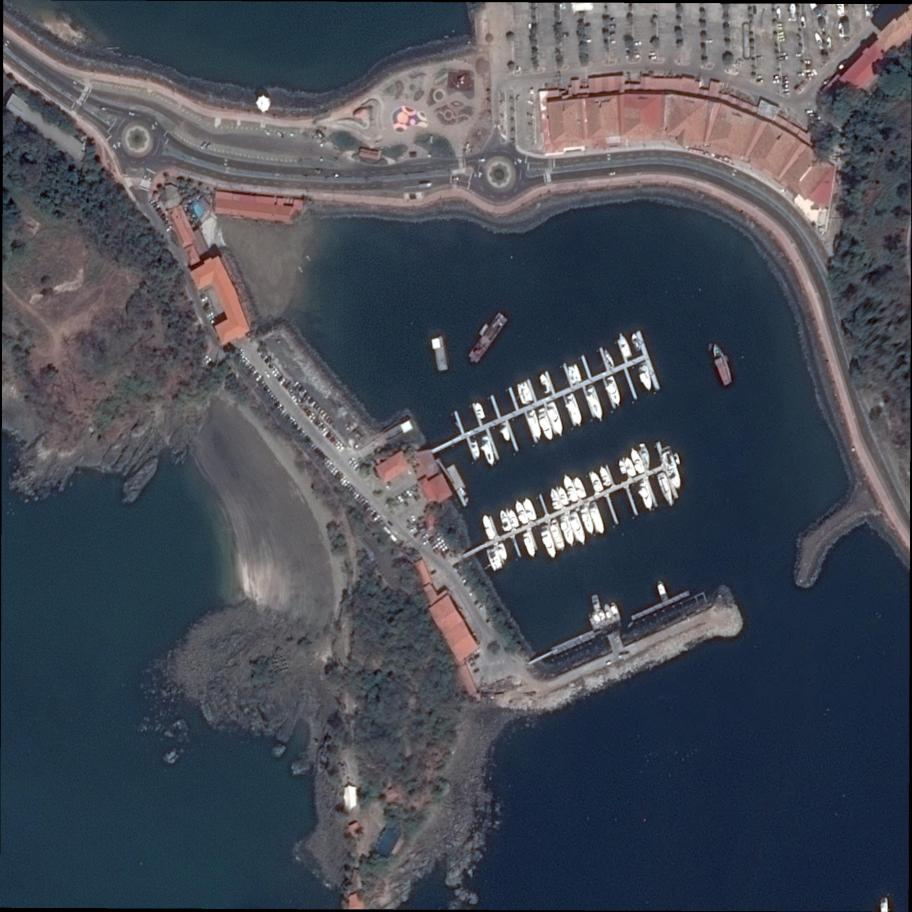ship: (463, 309, 511, 367), (706, 341, 737, 388), (659, 446, 686, 491), (583, 383, 608, 423), (544, 399, 569, 437), (654, 470, 677, 509), (557, 512, 580, 549), (568, 509, 590, 546), (539, 522, 560, 559), (603, 373, 625, 408), (587, 500, 608, 536), (564, 392, 585, 427), (535, 407, 556, 442), (548, 518, 569, 553), (431, 335, 450, 372), (637, 479, 656, 513), (635, 363, 656, 393), (478, 435, 497, 467), (525, 408, 544, 440), (615, 331, 635, 361), (561, 475, 580, 505), (515, 380, 536, 407), (521, 531, 540, 560), (579, 504, 596, 536), (637, 442, 655, 471), (629, 447, 647, 476), (512, 498, 530, 527), (521, 495, 539, 523), (564, 361, 583, 386), (536, 370, 553, 397), (480, 514, 497, 541), (469, 399, 488, 423), (587, 470, 606, 494), (547, 486, 564, 512), (486, 546, 504, 570), (597, 465, 614, 489), (572, 476, 589, 500), (654, 578, 670, 603), (468, 434, 483, 460), (602, 347, 617, 372), (622, 456, 638, 479), (498, 509, 513, 533), (498, 421, 514, 443), (506, 508, 521, 530), (496, 541, 510, 563), (556, 485, 569, 507), (596, 607, 609, 628), (609, 600, 622, 621), (603, 602, 615, 624), (630, 334, 642, 353), (591, 612, 603, 630), (590, 594, 601, 613), (813, 32, 825, 49), (616, 459, 628, 475), (588, 617, 598, 631), (837, 22, 844, 37), (655, 441, 663, 454), (799, 15, 806, 28), (775, 6, 781, 20), (675, 452, 681, 464), (826, 35, 831, 48)
small-vehicle: (420, 182, 432, 188), (264, 129, 272, 137), (373, 514, 381, 522), (165, 225, 173, 232), (333, 437, 340, 445), (285, 381, 292, 389), (330, 435, 338, 442), (369, 509, 377, 516), (203, 303, 210, 310), (206, 357, 213, 364), (339, 446, 346, 453), (259, 380, 266, 387), (277, 131, 284, 138), (432, 544, 439, 551), (438, 539, 445, 546), (280, 377, 287, 384), (288, 387, 295, 394), (264, 371, 271, 378), (293, 396, 300, 403), (295, 399, 302, 406), (309, 412, 316, 419), (311, 415, 318, 422), (323, 429, 330, 436), (329, 433, 336, 440), (335, 472, 342, 479), (357, 495, 364, 502), (361, 500, 368, 507), (259, 349, 266, 356), (422, 540, 430, 546), (327, 431, 333, 439), (262, 355, 270, 361), (207, 312, 214, 318), (208, 315, 215, 321), (349, 457, 355, 464), (311, 401, 318, 407), (203, 355, 210, 361), (527, 114, 534, 120), (337, 443, 343, 450), (335, 441, 342, 447), (273, 399, 280, 405), (263, 385, 269, 392), (256, 375, 262, 382), (300, 430, 306, 437), (302, 433, 308, 440), (422, 533, 429, 539), (428, 536, 435, 542), (430, 540, 437, 546), (441, 546, 448, 552), (435, 536, 442, 542), (320, 456, 327, 462), (318, 453, 325, 459), (314, 447, 321, 453), (278, 376, 285, 382), (291, 394, 297, 401), (327, 462, 333, 469), (330, 467, 336, 474), (337, 474, 343, 481), (344, 481, 350, 488), (363, 503, 370, 509), (634, 42, 642, 47), (528, 122, 534, 128), (164, 221, 170, 227), (351, 461, 357, 467), (322, 412, 328, 418), (319, 409, 325, 415), (306, 396, 312, 402), (303, 393, 309, 399), (298, 387, 304, 393), (296, 384, 302, 390), (294, 381, 300, 387), (292, 422, 298, 428), (287, 417, 293, 423), (276, 404, 282, 410), (267, 391, 273, 397), (265, 388, 271, 394), (252, 370, 258, 376), (310, 442, 316, 448), (440, 543, 446, 549), (312, 445, 318, 451), (240, 355, 246, 361), (239, 352, 245, 358), (270, 365, 276, 371), (274, 371, 280, 377), (276, 373, 282, 379), (291, 391, 297, 397), (307, 411, 313, 417), (318, 422, 324, 428), (320, 425, 326, 431), (322, 427, 328, 433), (272, 369, 278, 375), (328, 465, 334, 471), (342, 479, 348, 485), (346, 484, 352, 490), (348, 486, 354, 492), (352, 491, 358, 497), (355, 493, 361, 499), (162, 217, 169, 222), (201, 297, 208, 302), (353, 464, 360, 469), (650, 55, 657, 60), (243, 357, 248, 364), (333, 469, 338, 476), (340, 476, 345, 483), (160, 214, 166, 219), (158, 211, 164, 216), (156, 208, 162, 213), (154, 204, 160, 209), (150, 199, 155, 205), (329, 421, 334, 427), (327, 418, 332, 424), (325, 415, 330, 421), (314, 404, 319, 410), (309, 398, 314, 404), (301, 390, 307, 395), (208, 361, 213, 367), (296, 426, 301, 432), (293, 425, 299, 430), (289, 419, 295, 424), (282, 409, 287, 415), (278, 407, 284, 412), (275, 402, 281, 407), (248, 364, 253, 370), (245, 360, 250, 366), (268, 363, 274, 368), (360, 498, 365, 504), (707, 39, 714, 43), (317, 407, 322, 412), (284, 412, 289, 417), (272, 396, 277, 401), (270, 394, 275, 399), (250, 367, 255, 372), (305, 437, 310, 442), (317, 451, 322, 456), (325, 460, 330, 465), (351, 489, 356, 494), (452, 177, 459, 180)
